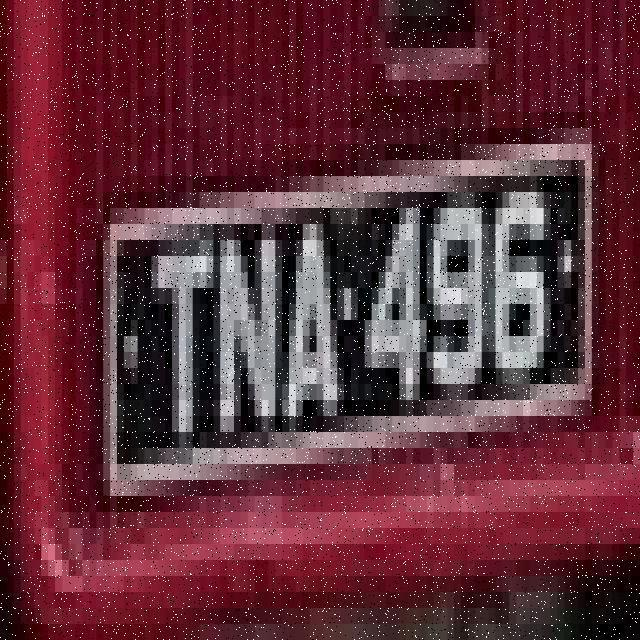LicensePlate: (64, 103, 611, 503)
